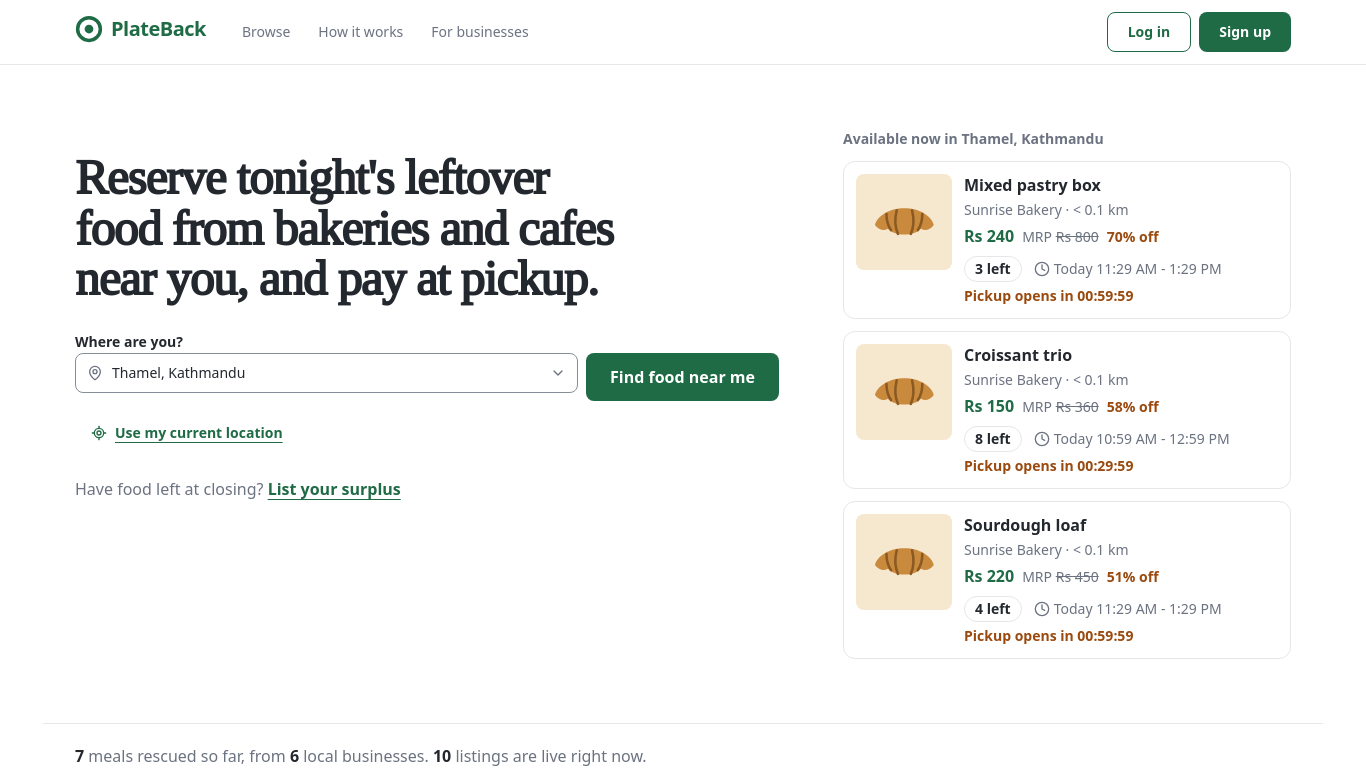
Test case: LocationSearch (landing page) › explains a browser without location support
The width and height of the screenshot is (1366, 768).
Expected: the 2nd heading is shown, [75,151,613,306]
Click the button "Use my current location" at (187,433), box [75,413,299,453]
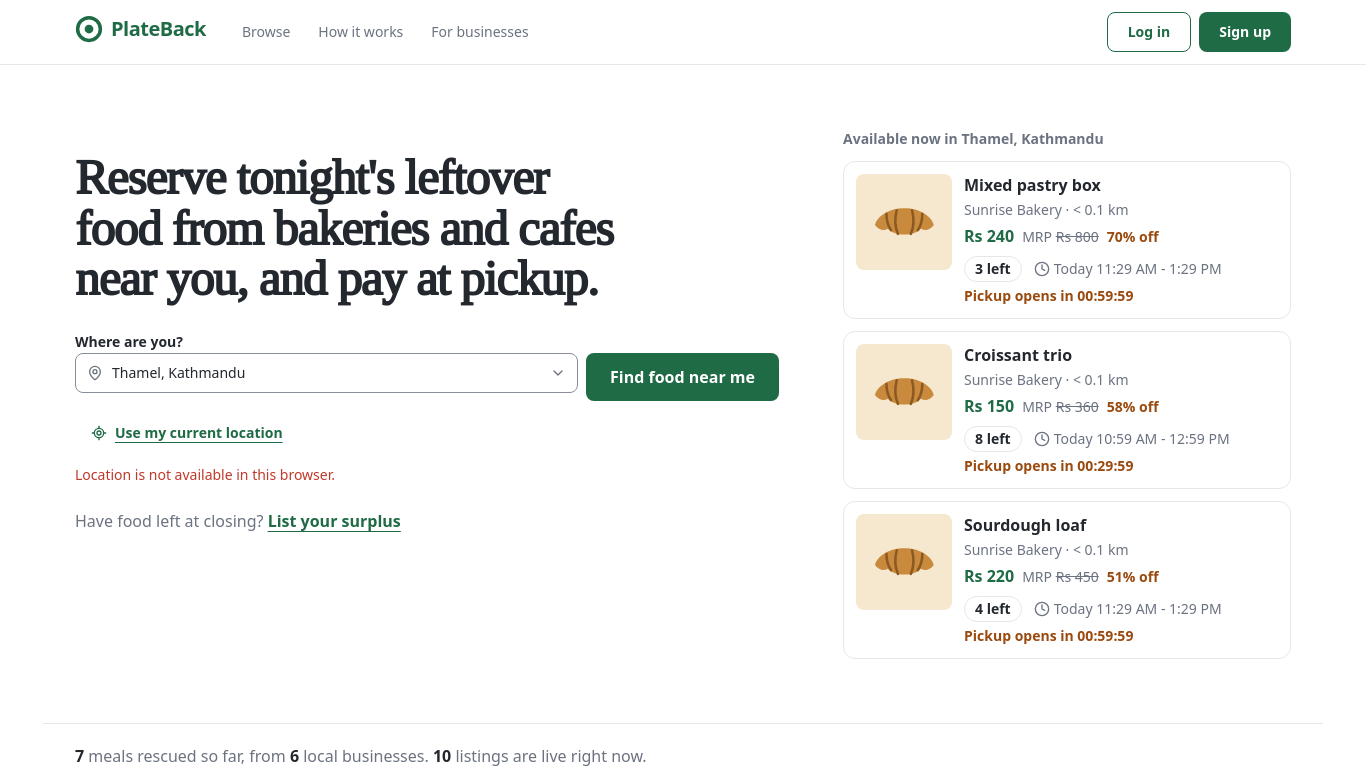
Expected: the text "Location is not available in this browser." is shown, [75,465,335,484]
